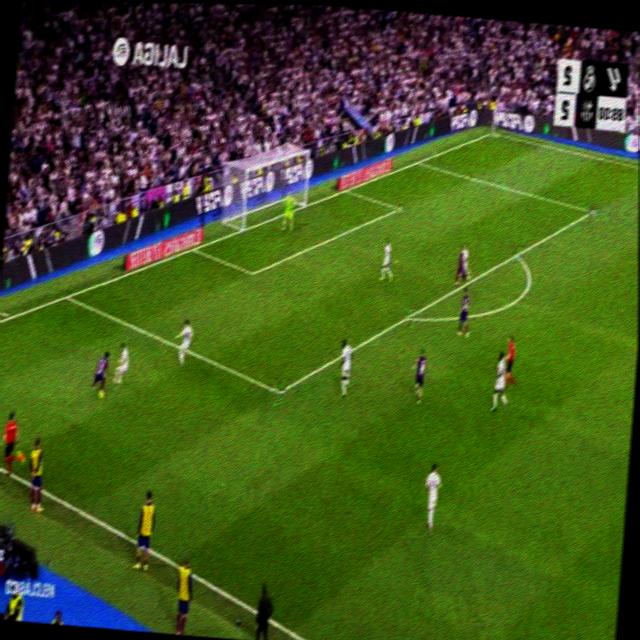bigarea_bottom_inner: (271, 376, 286, 406)
bigarea_bottom_outter: (61, 287, 72, 304)
bigarea_top_inner: (586, 201, 597, 220)
bottom_arc_area_intersection: (401, 304, 414, 327)
corner: (486, 125, 498, 137)
smallarea_top_inner: (395, 201, 402, 213)
top_arc_area_intersection: (511, 244, 522, 263)
